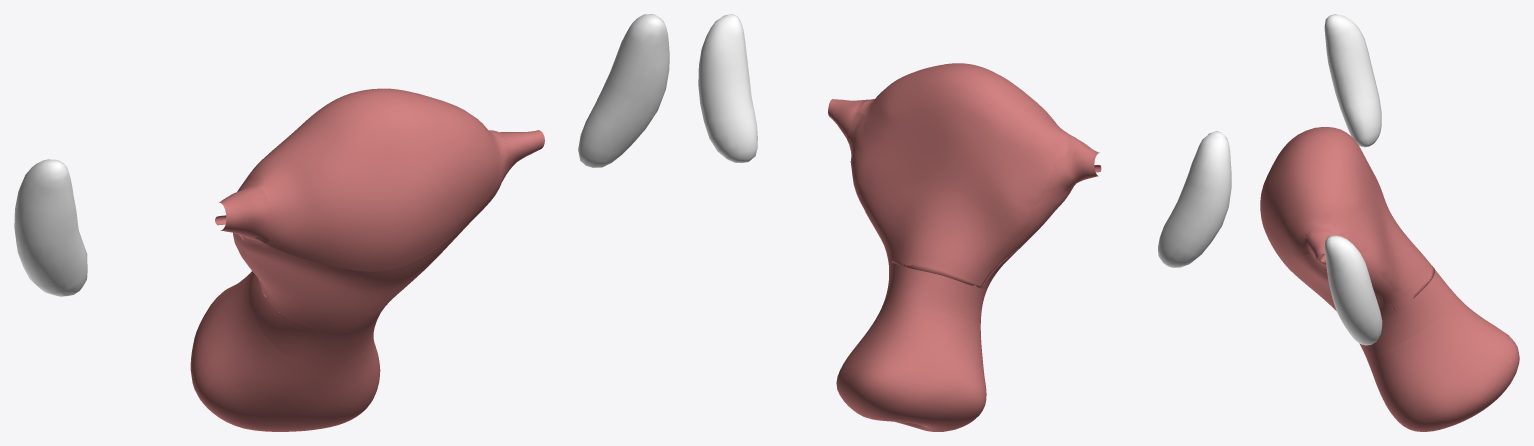
The model's file is reproductive-female.glb.
3 renders of one model, left to right at view 1: azimuth 30°, elevation 25°; view 2: azimuth 150°, elevation 25°; view 3: azimuth 270°, elevation 25°, orthographic. The views are drawn at different scales.
Parts seen in each view (by area): view 1: hra_fundus_of_uterus, hra_cervix, hra_body_of_uterus, hra_ovary_left, hra_ovary_right, hra_lower_uterine_segment, hra_cornua; view 2: hra_posterior_wall_of_uterus, hra_cervix, hra_fundus_of_uterus, hra_ovary_left, hra_ovary_right, hra_lower_uterine_segment, hra_body_of_uterus, hra_cornua; view 3: hra_cervix, hra_fundus_of_uterus, hra_posterior_wall_of_uterus, hra_ovary_right, hra_ovary_left, hra_lower_uterine_segment, hra_body_of_uterus, hra_cornua.
Boxes of the visible parts, box(x1,y1,x2,y2) form: hra_fundus_of_uterus: box(240, 88, 507, 271); hra_cervix: box(190, 271, 380, 431); hra_body_of_uterus: box(233, 171, 506, 335); hra_ovary_left: box(578, 14, 669, 167); hra_ovary_right: box(14, 159, 87, 296); hra_lower_uterine_segment: box(248, 272, 379, 364); hra_cornua: box(219, 130, 544, 237); hra_posterior_wall_of_uterus: box(854, 91, 1075, 288); hra_cervix: box(836, 299, 986, 431); hra_fundus_of_uterus: box(858, 63, 1072, 161); hra_ovary_left: box(698, 14, 757, 162); hra_ovary_right: box(1158, 131, 1231, 267); hra_lower_uterine_segment: box(885, 261, 987, 323); hra_body_of_uterus: box(847, 112, 1075, 289); hra_cornua: box(828, 99, 1099, 183); hra_cervix: box(1364, 294, 1519, 431); hra_fundus_of_uterus: box(1260, 127, 1362, 257); hra_posterior_wall_of_uterus: box(1306, 135, 1434, 311); hra_ovary_right: box(1324, 14, 1381, 147); hra_ovary_left: box(1324, 235, 1382, 345); hra_lower_uterine_segment: box(1359, 270, 1455, 354); hra_body_of_uterus: box(1273, 230, 1432, 320); hra_cornua: box(1306, 127, 1332, 271).
Size of the model in its own units: 0.1038 by 0.0589 by 0.0477.
